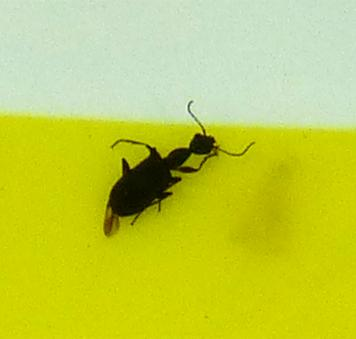Coleoptera: (100, 100, 256, 239)
